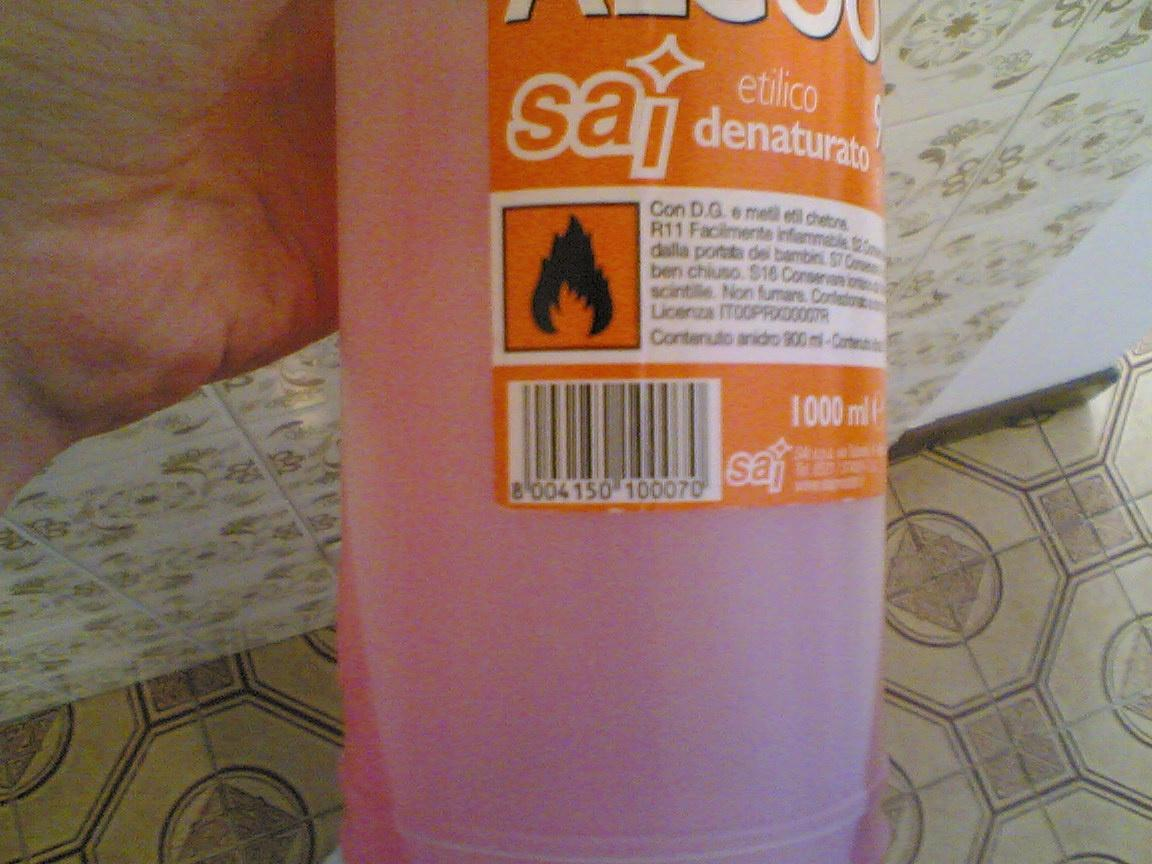Barcode: (498, 376, 728, 506)
